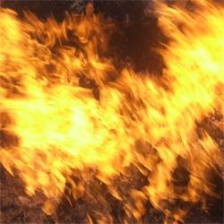fire: (1, 11, 224, 192)
